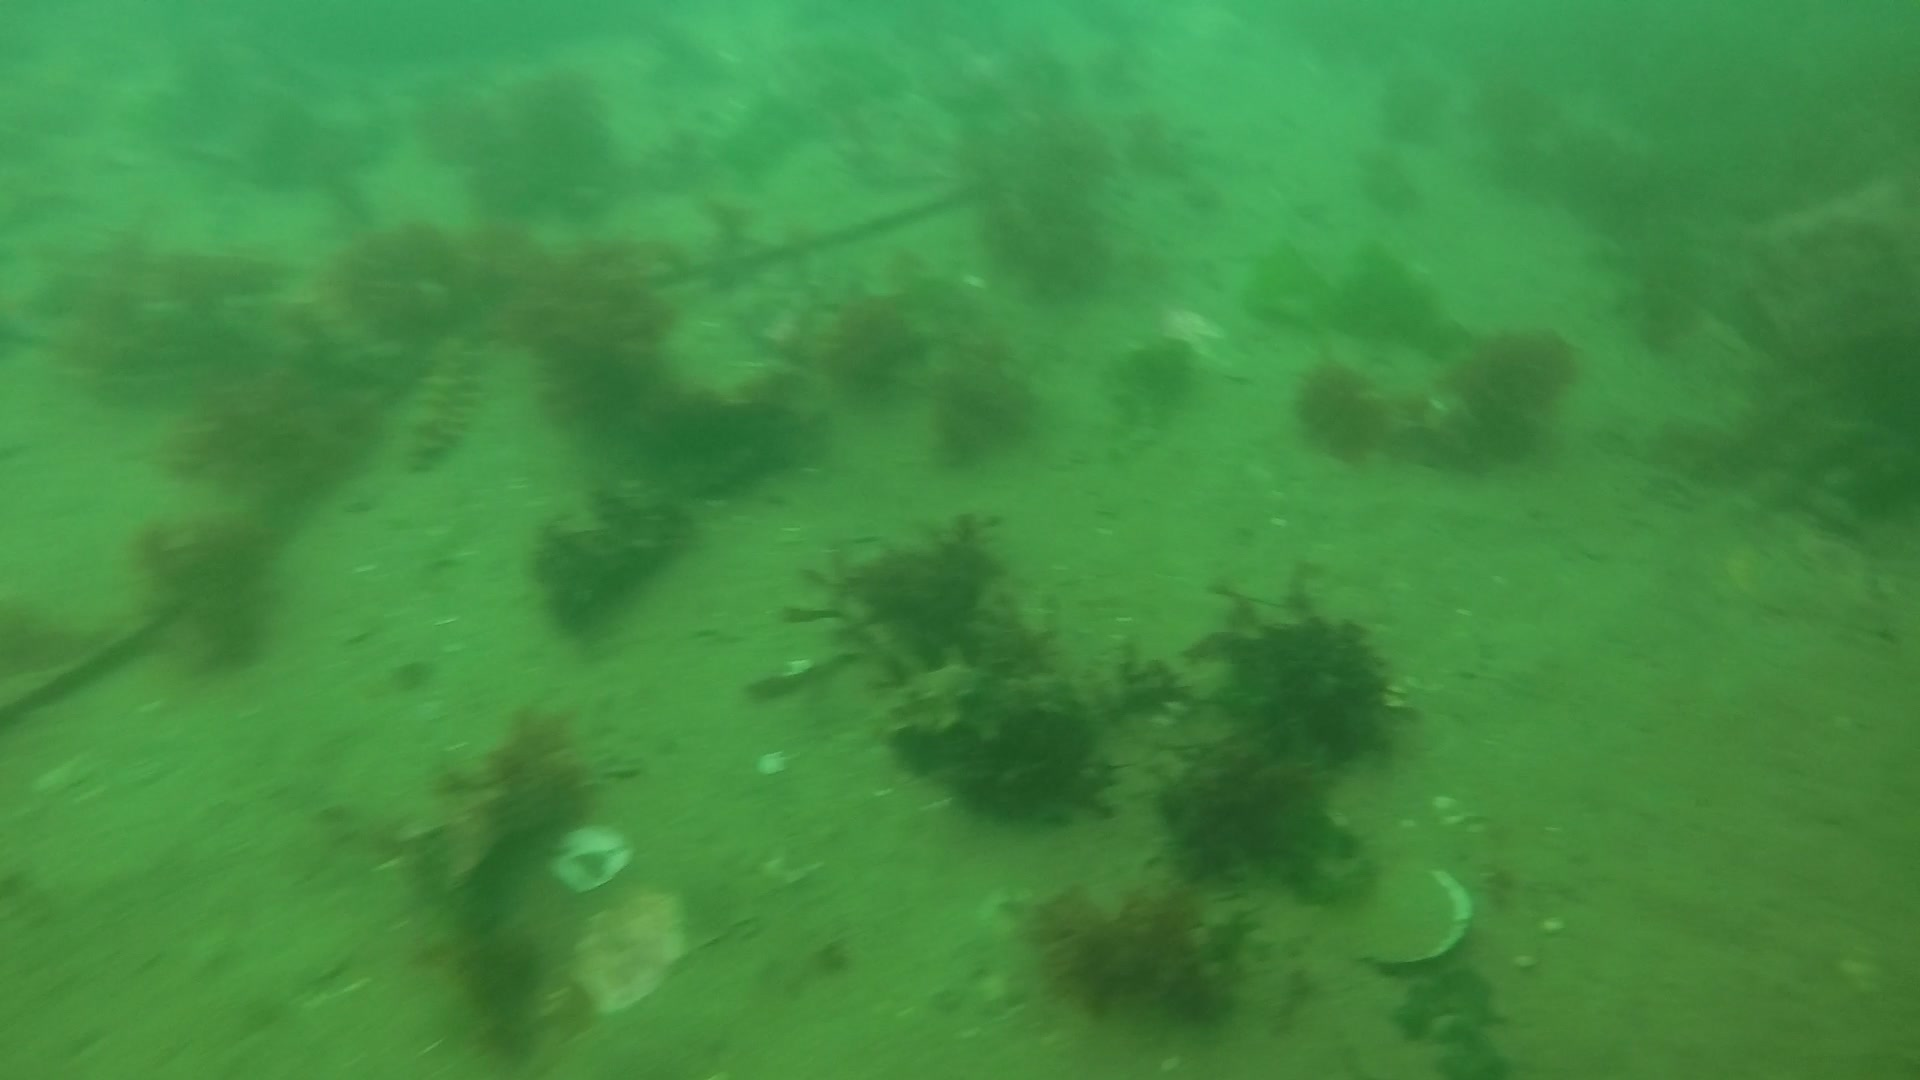holothurian: (397, 320, 485, 473)
scallop: (572, 889, 690, 1015), (538, 825, 636, 889)
